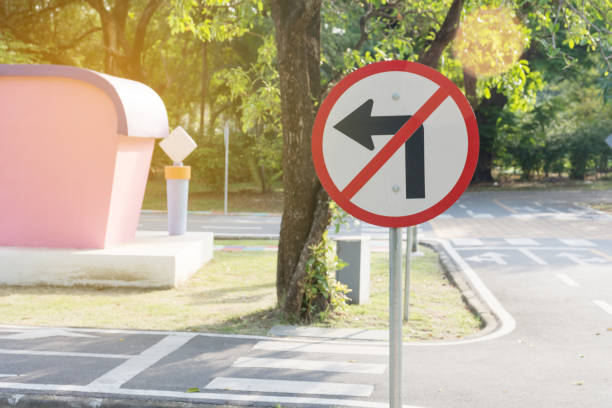sola_girilmez: (312, 56, 476, 225)
